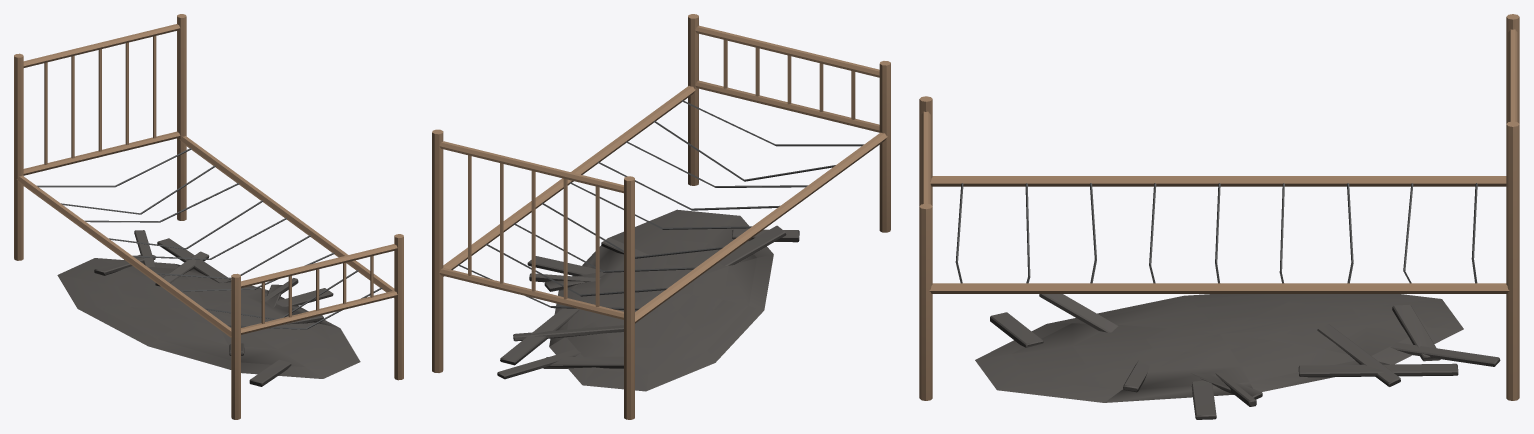
Rendered from bed_burnt.glb.
The picture shows the model from 3 angles, left to right: view 1: azimuth 30°, elevation 25°; view 2: azimuth 150°, elevation 25°; view 3: azimuth 270°, elevation 25°; orthographic projection. The views are drawn at different scales.
Visible parts, largest first — view 1: static; view 2: static; view 3: static.
Boxes of the visible parts, left/top/right/bottom form: static: left=14, top=14, right=403, bottom=419; static: left=432, top=14, right=890, bottom=419; static: left=919, top=14, right=1519, bottom=419.
Size of the model in its own units: 1.05 by 1.07 by 1.98.
